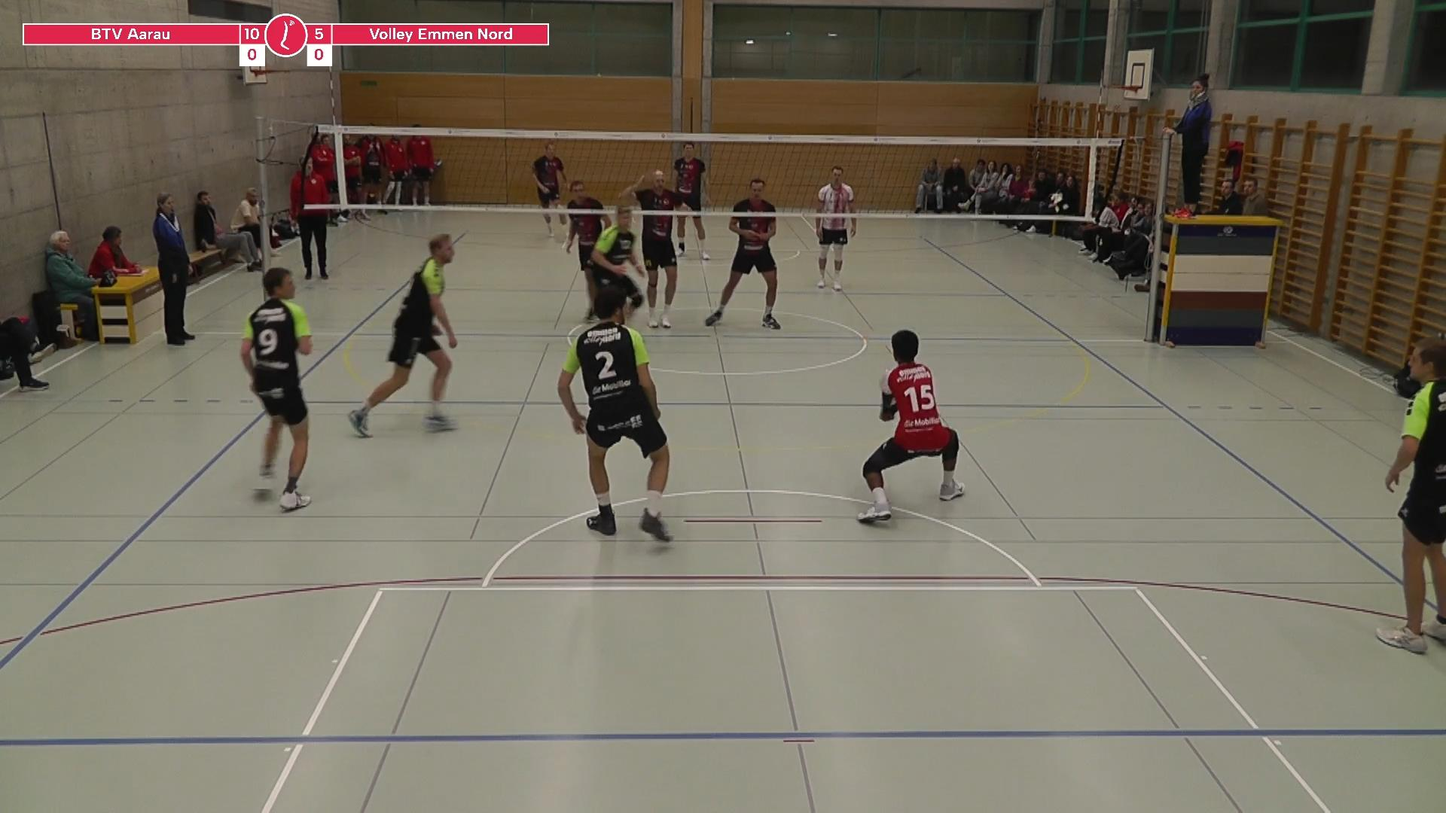Player: (558, 286, 671, 541), (349, 234, 457, 437), (1377, 340, 1445, 653), (241, 267, 312, 510), (705, 178, 780, 329), (621, 170, 682, 327), (565, 181, 611, 320), (590, 206, 643, 309), (815, 166, 856, 291), (674, 142, 710, 260), (530, 142, 566, 236)
Receive: (835, 319, 970, 527)
